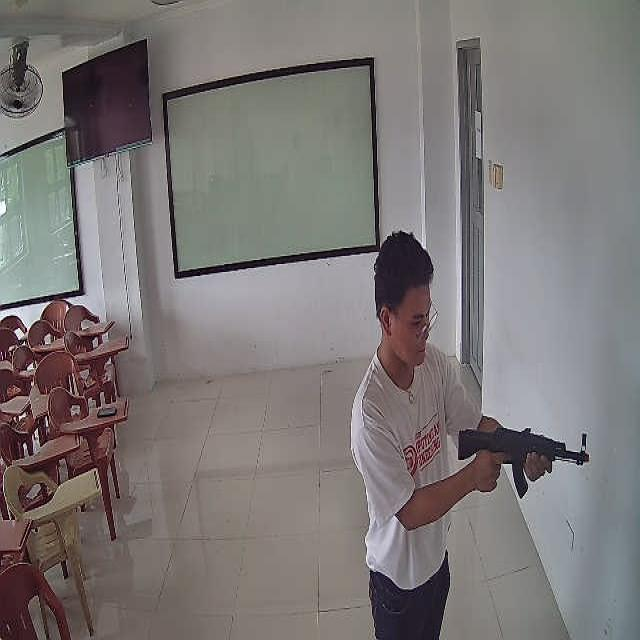rifle: (458, 428, 589, 500)
